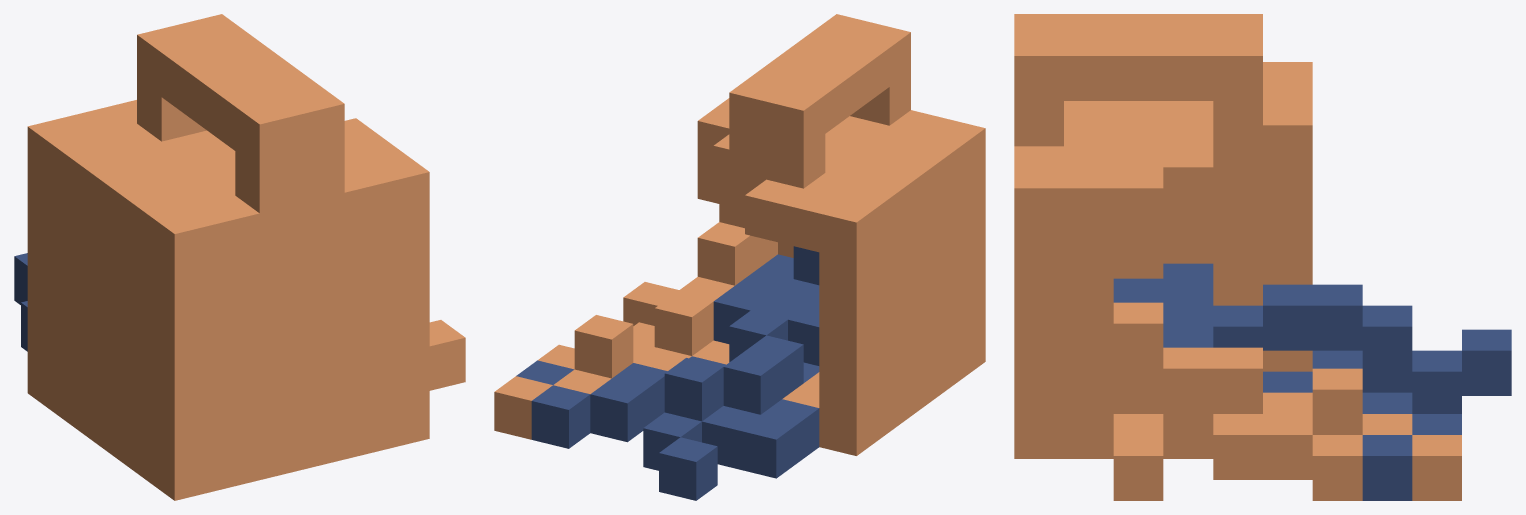
The model's file is light-brownDestroy_with_water.obj.
The picture shows the model from 3 angles, left to right: view 1: azimuth 30°, elevation 25°; view 2: azimuth 150°, elevation 25°; view 3: azimuth 270°, elevation 25°; orthographic projection. The views are drawn at different scales.
Bounding box in the file's own units: 0.8 × 0.8 × 1.
Materials: 1 (1 with a texture image).
